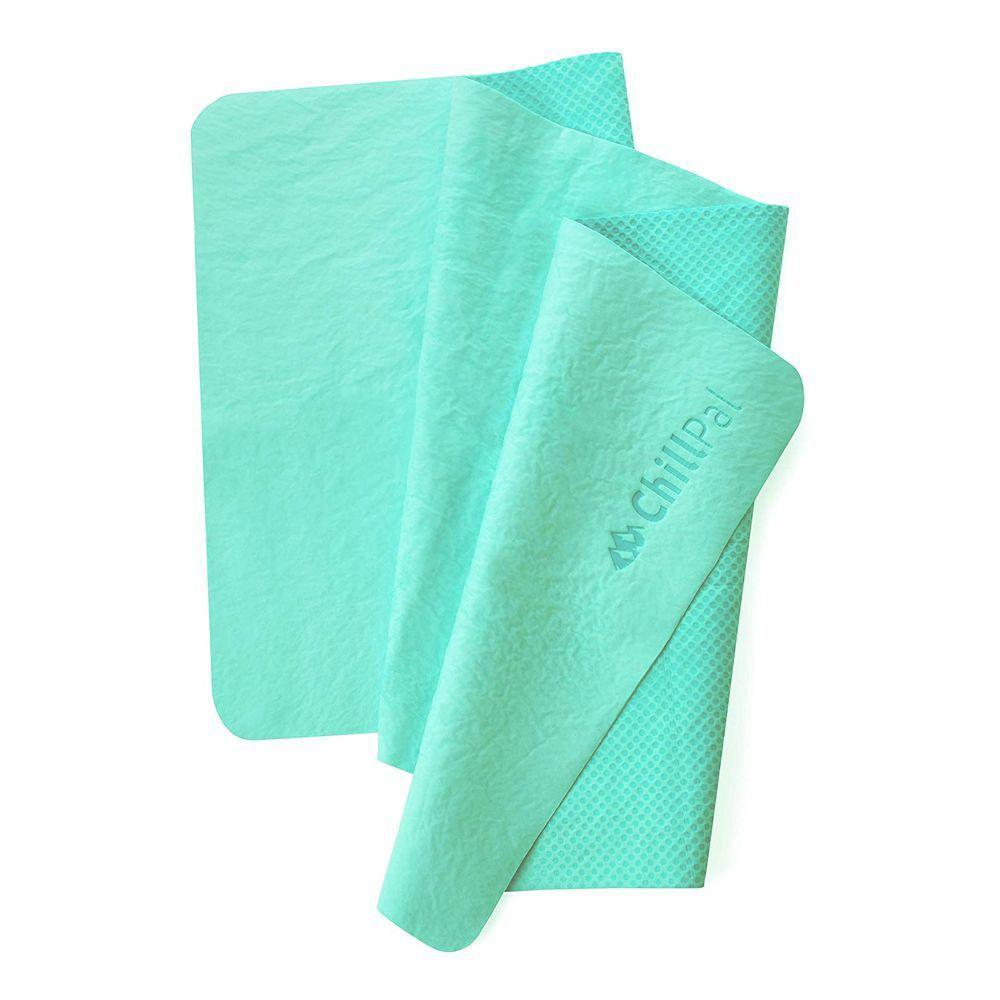towel: (132, 78, 820, 875)
